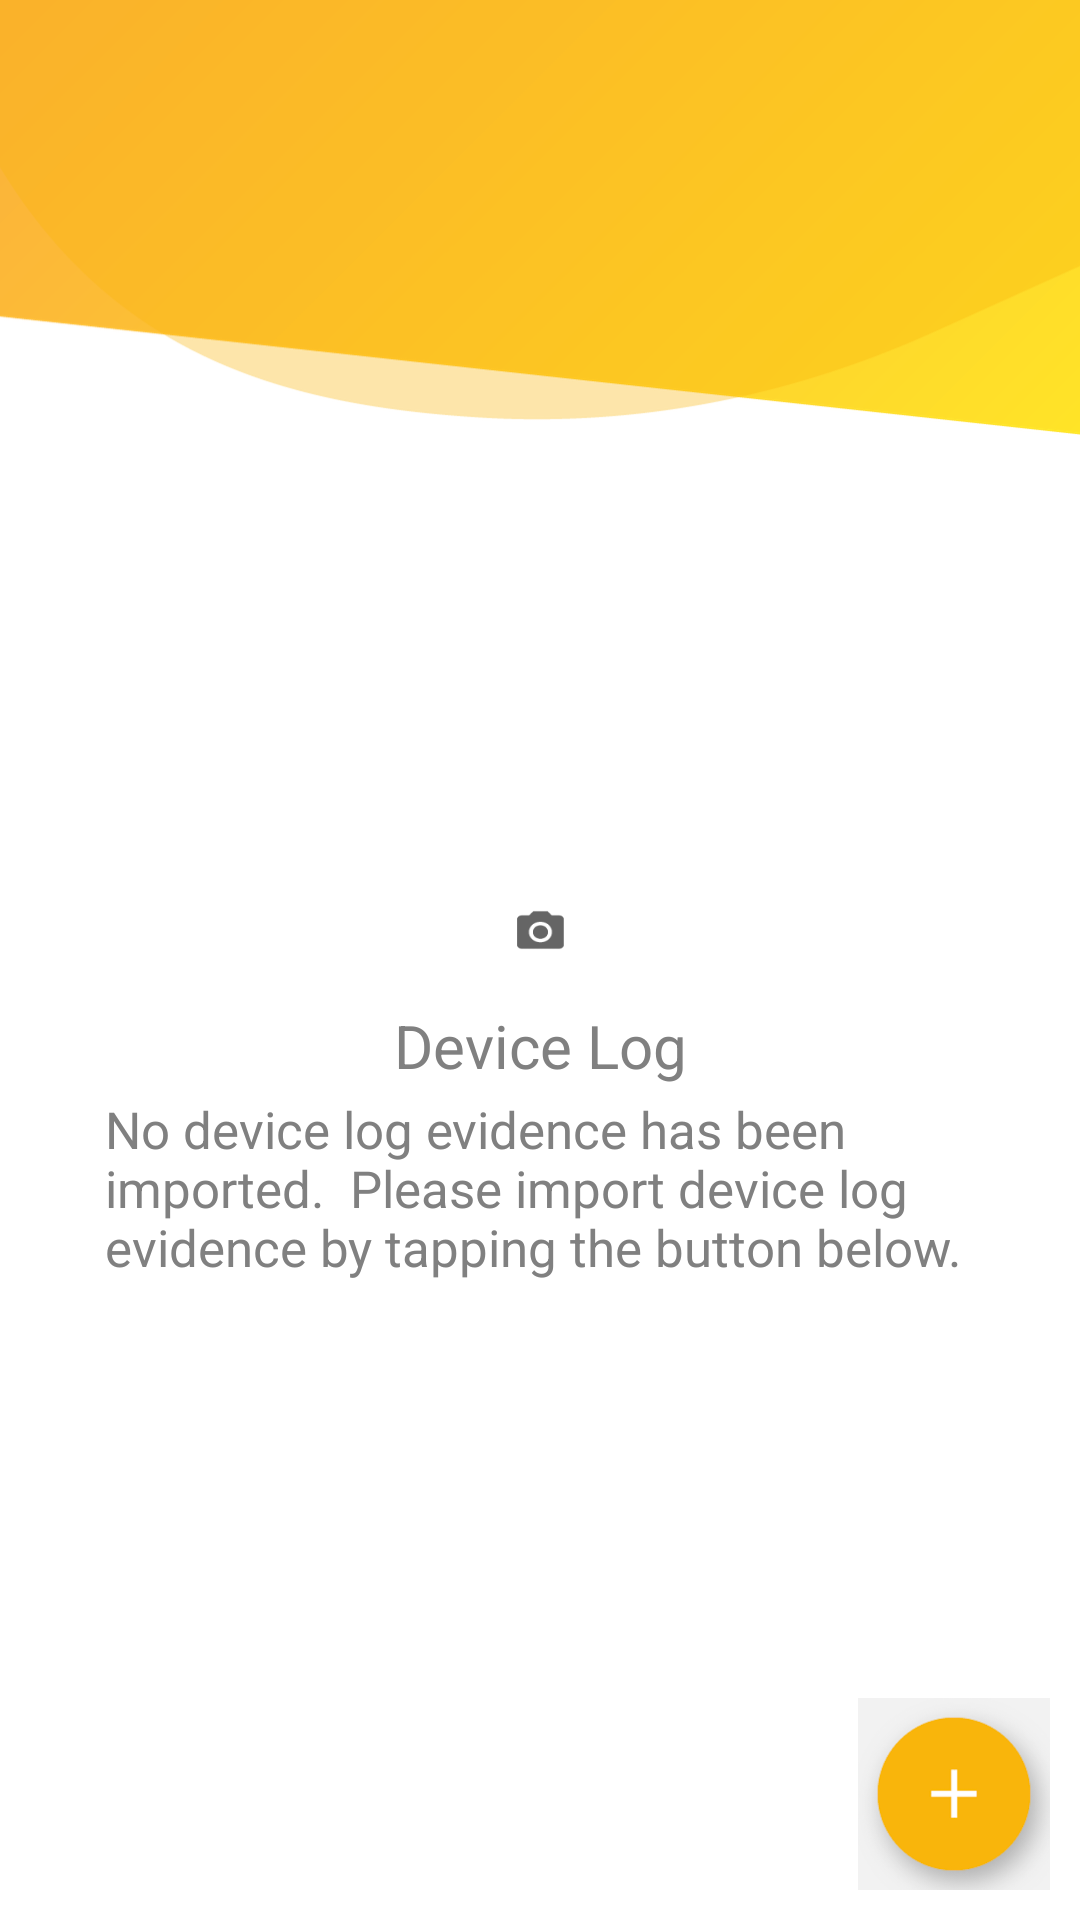

Icon click points for this 1080px×1920px phone screenshot, format [x,y]:
camera: [540,930]
